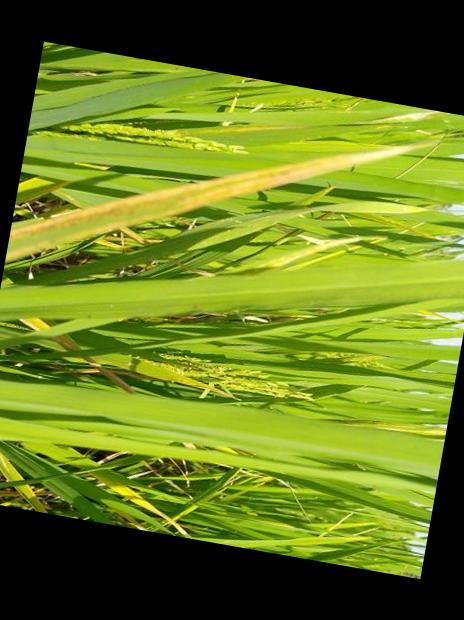Leaf Streak: (5, 135, 444, 262), (249, 237, 361, 267), (84, 357, 133, 393), (49, 334, 78, 351), (19, 316, 48, 330)
